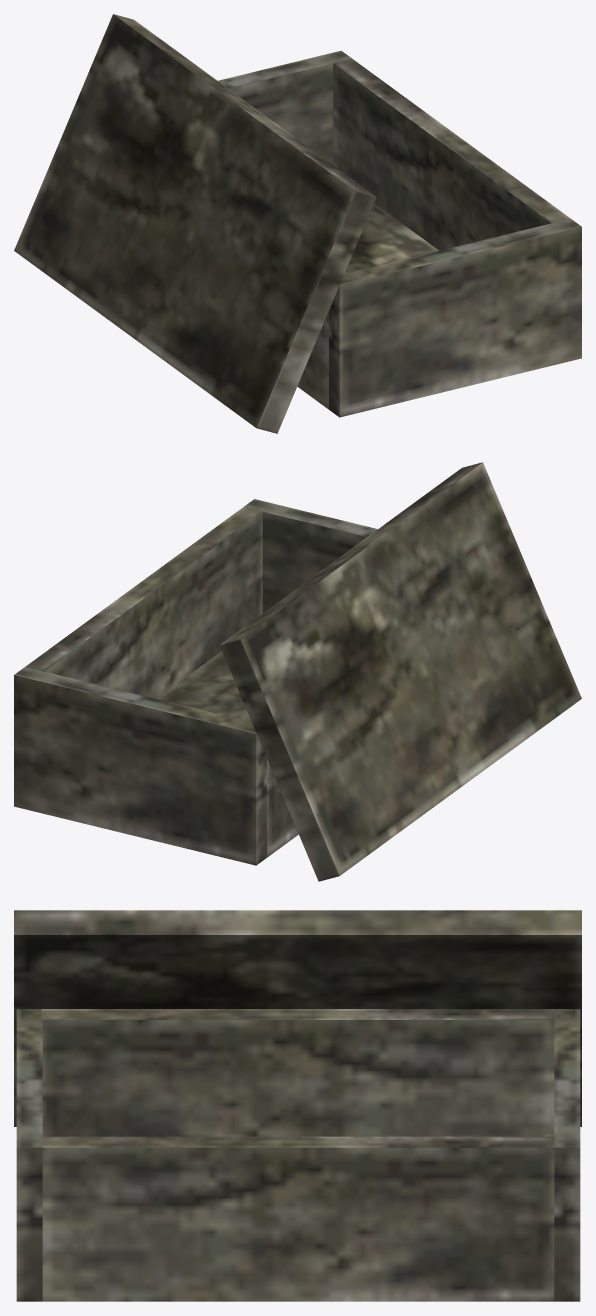
The picture shows the model from 3 angles, top to bottom: view 1: azimuth 30°, elevation 25°; view 2: azimuth 150°, elevation 25°; view 3: azimuth 270°, elevation 25°; orthographic projection. The views are drawn at different scales.
Visible parts, largest first — view 1: ob-12-14; view 2: ob-12-14; view 3: ob-12-14.
Boxes of the visible parts, <box> form: ob-12-14: <box>14,14,581,433</box>; ob-12-14: <box>14,462,581,881</box>; ob-12-14: <box>14,910,581,1301</box>.
Bounding box in the file's own units: 2.14 × 1.4 × 2.75.
Materials: 1 (1 with a texture image).
